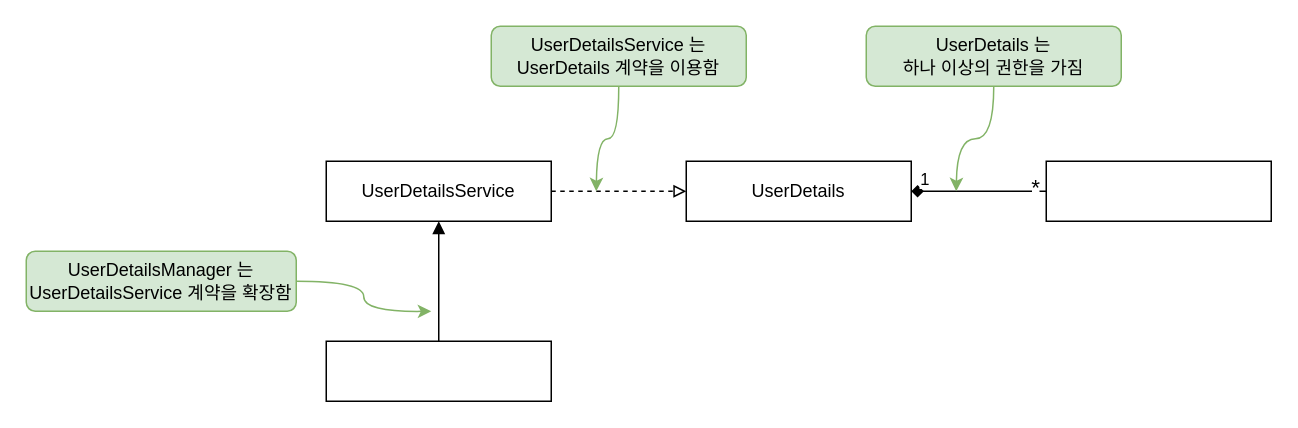
Some shapes in this 1298 by 428 pixel diagram are drawn without their labels. The shapes that lost their labels are listed below. From the top down, each one's centre as x and y in pixels, then its label:
At [1158,190]: "GrantedAuthority".
At [438,370]: "UserDetailsManager".
